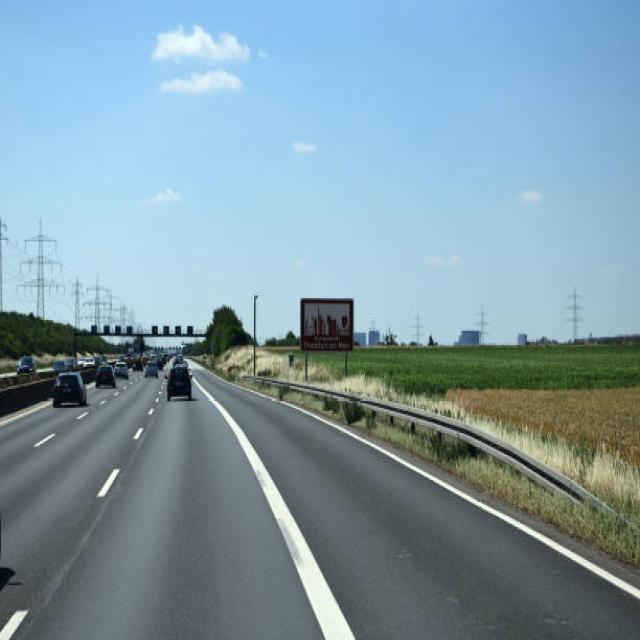Billboard_RHS: (300, 291, 364, 350)
Roadcorner: (261, 396, 639, 622), (10, 389, 56, 418)
Roadlane: (3, 382, 164, 634), (10, 382, 127, 479)
